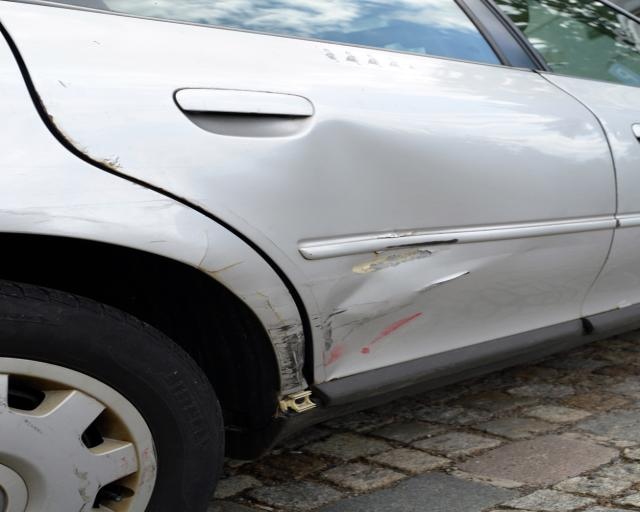dent: (208, 122, 520, 370)
scratch: (264, 320, 310, 393)
